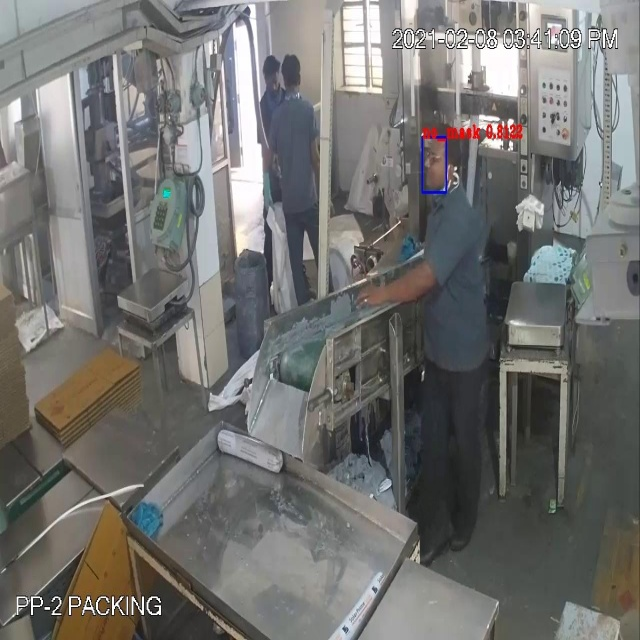Sin_guantes: (347, 260, 443, 319)
